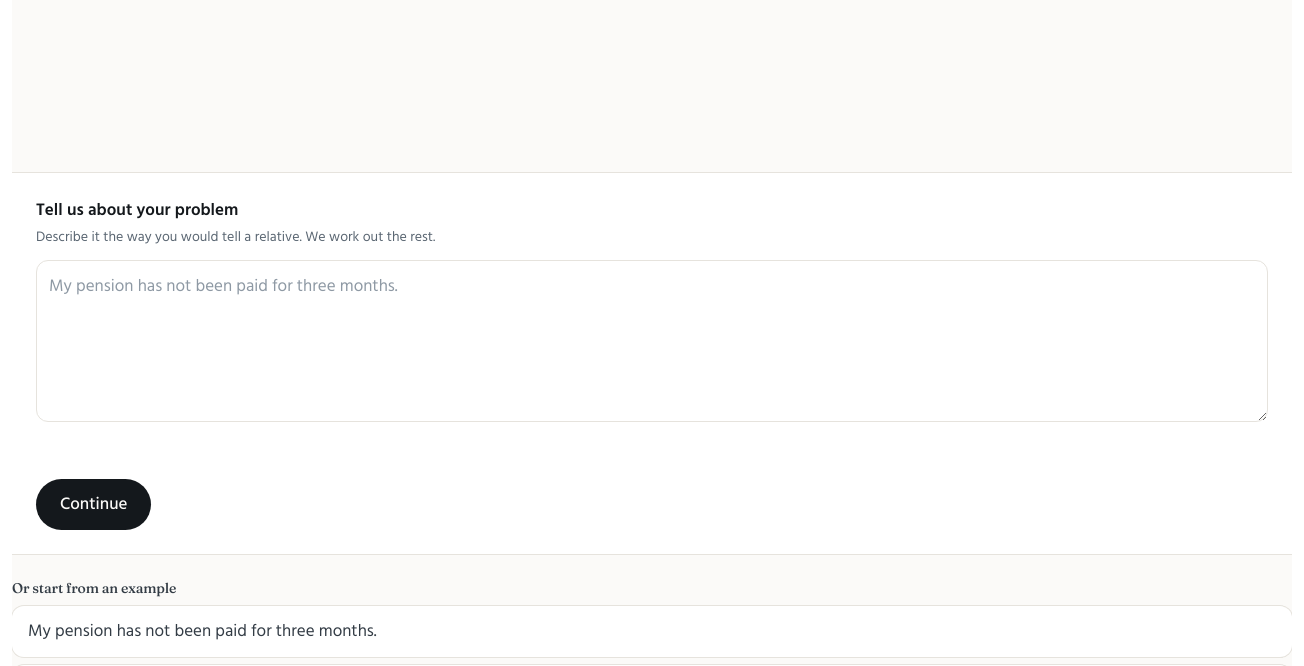
Test case: Clarify › back returns to the landing screen with the text intact
This screenshot has width=1304, height=666.
(page scrolled)
Step 1. Type "my pension has not been paid" into the text box labelled "Tell us about your problem" → (652, 341), box left=36, top=260, right=1268, bottom=422
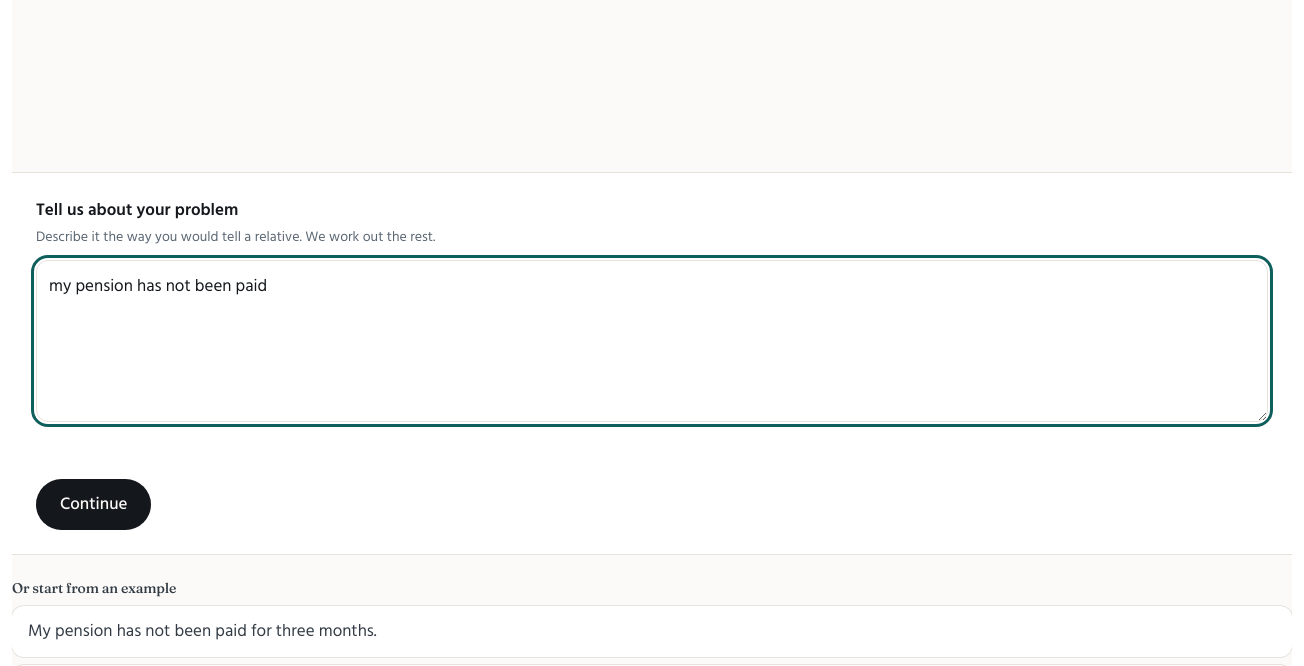
Step 2. Click the button "Continue" → click(94, 504), box left=36, top=479, right=151, bottom=530
(page scrolled)
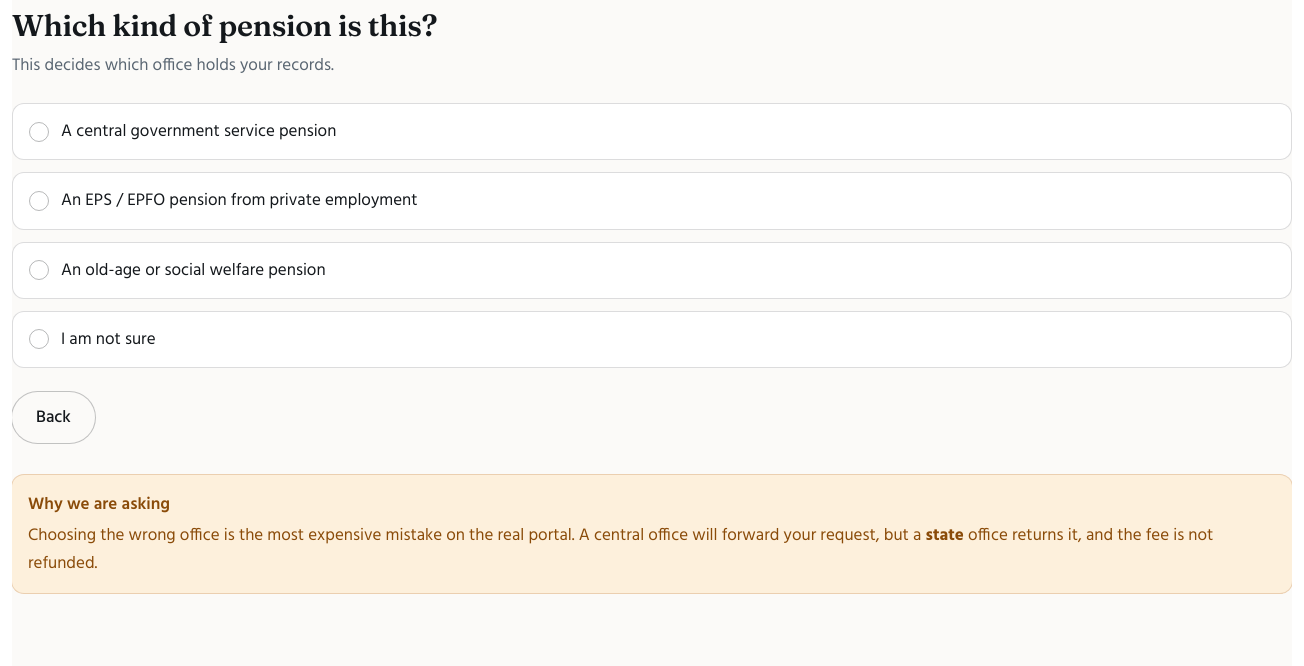
Step 3. Click the button "Back" → click(53, 418), box left=12, top=392, right=95, bottom=443
(page scrolled)
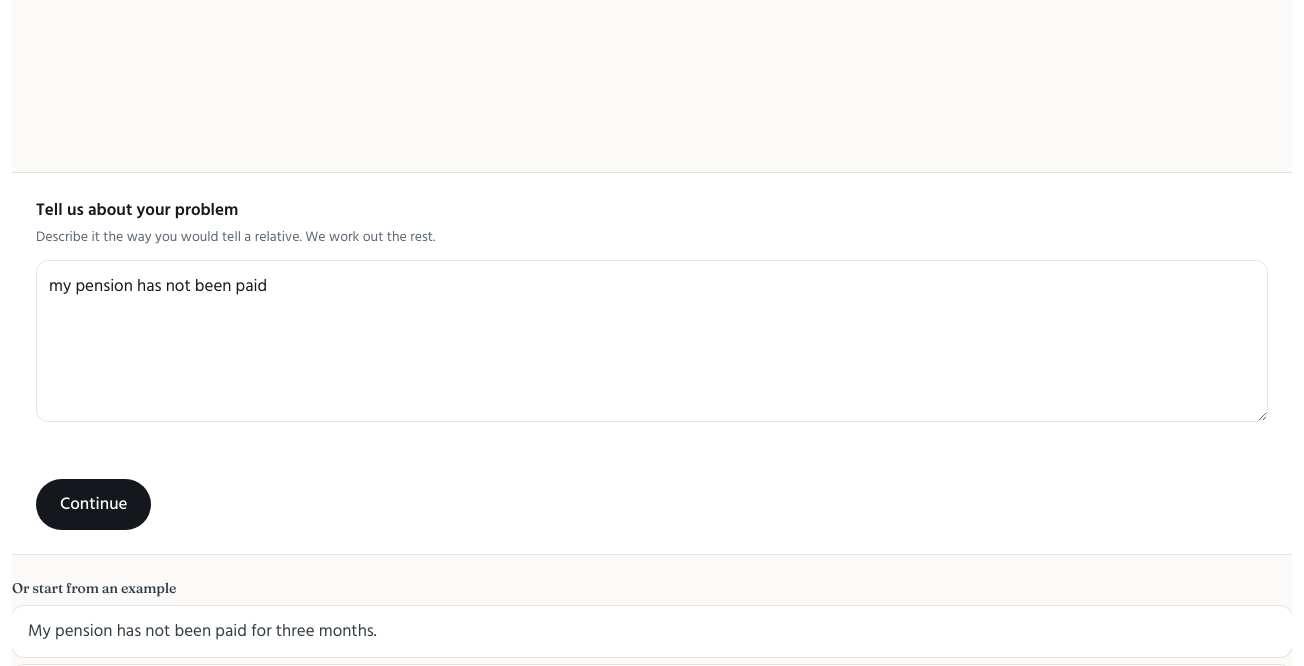
Expected: the text box labelled "Tell us about your problem" holds "my pension has not been paid", left=36, top=260, right=1268, bottom=422
